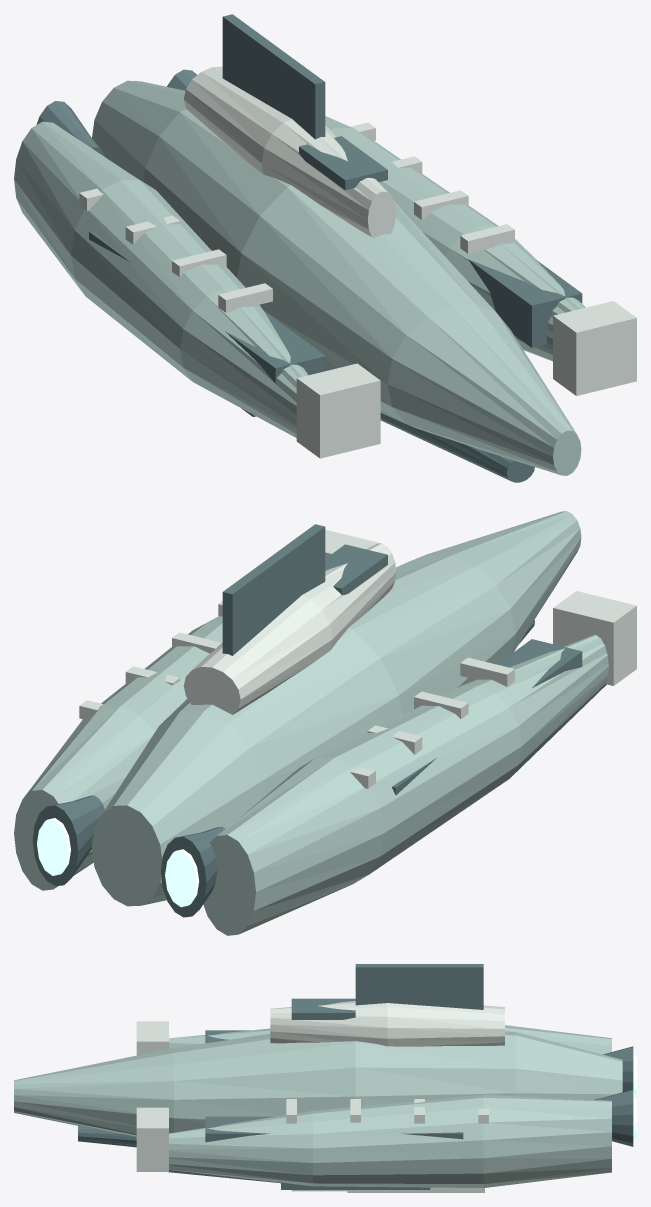
The picture shows the model from 3 angles, top to bottom: view 1: azimuth 30°, elevation 25°; view 2: azimuth 150°, elevation 25°; view 3: azimuth 270°, elevation 25°; orthographic projection. The views are drawn at different scales.
Bounding box in the file's own units: 6.77 × 5.49 × 15.45.
